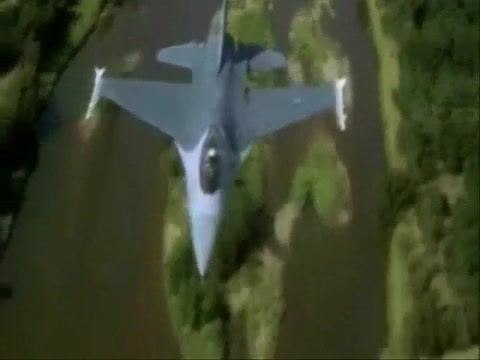aeroplane: (85, 2, 347, 280)
